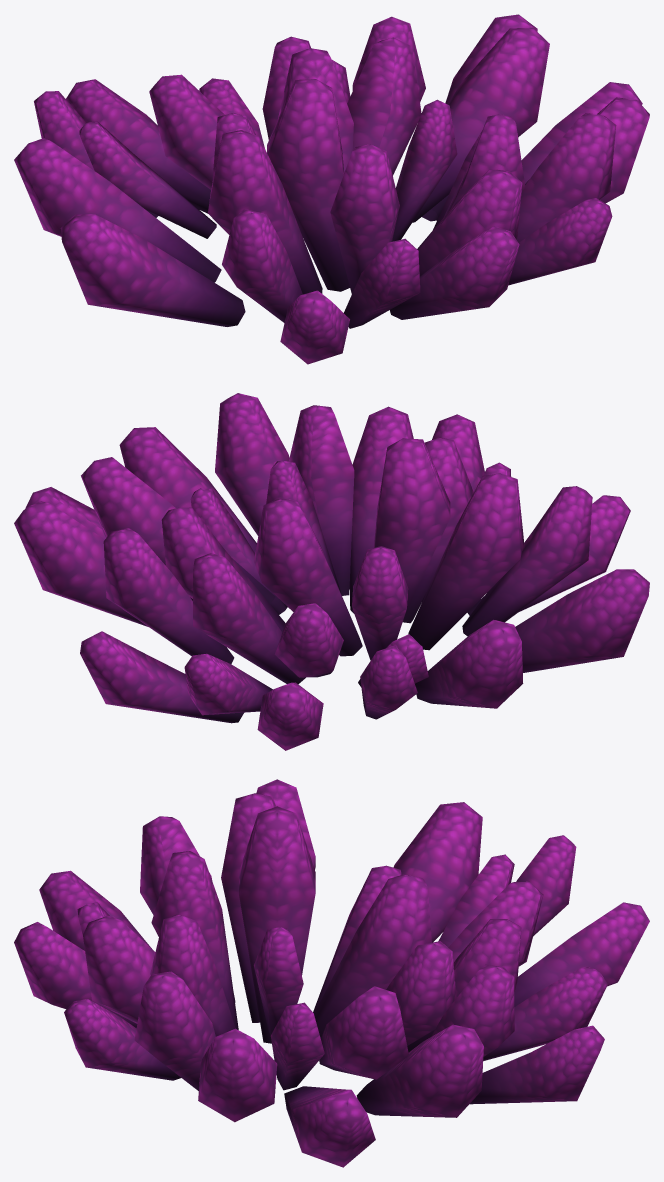
Rendered from Coral_10d.FBX.
3 renders of one model, top to bottom at view 1: azimuth 30°, elevation 25°; view 2: azimuth 150°, elevation 25°; view 3: azimuth 270°, elevation 25°, orthographic. The views are drawn at different scales.
Visible parts, largest first — view 1: Coral_10d; view 2: Coral_10d; view 3: Coral_10d.
Part boxes in pixels (box(x1,y1,x2,y2)): Coral_10d: box(14, 14, 649, 364); Coral_10d: box(14, 393, 649, 750); Coral_10d: box(14, 779, 649, 1167).
Size of the model in its own units: 26.88 by 10.37 by 23.94.
